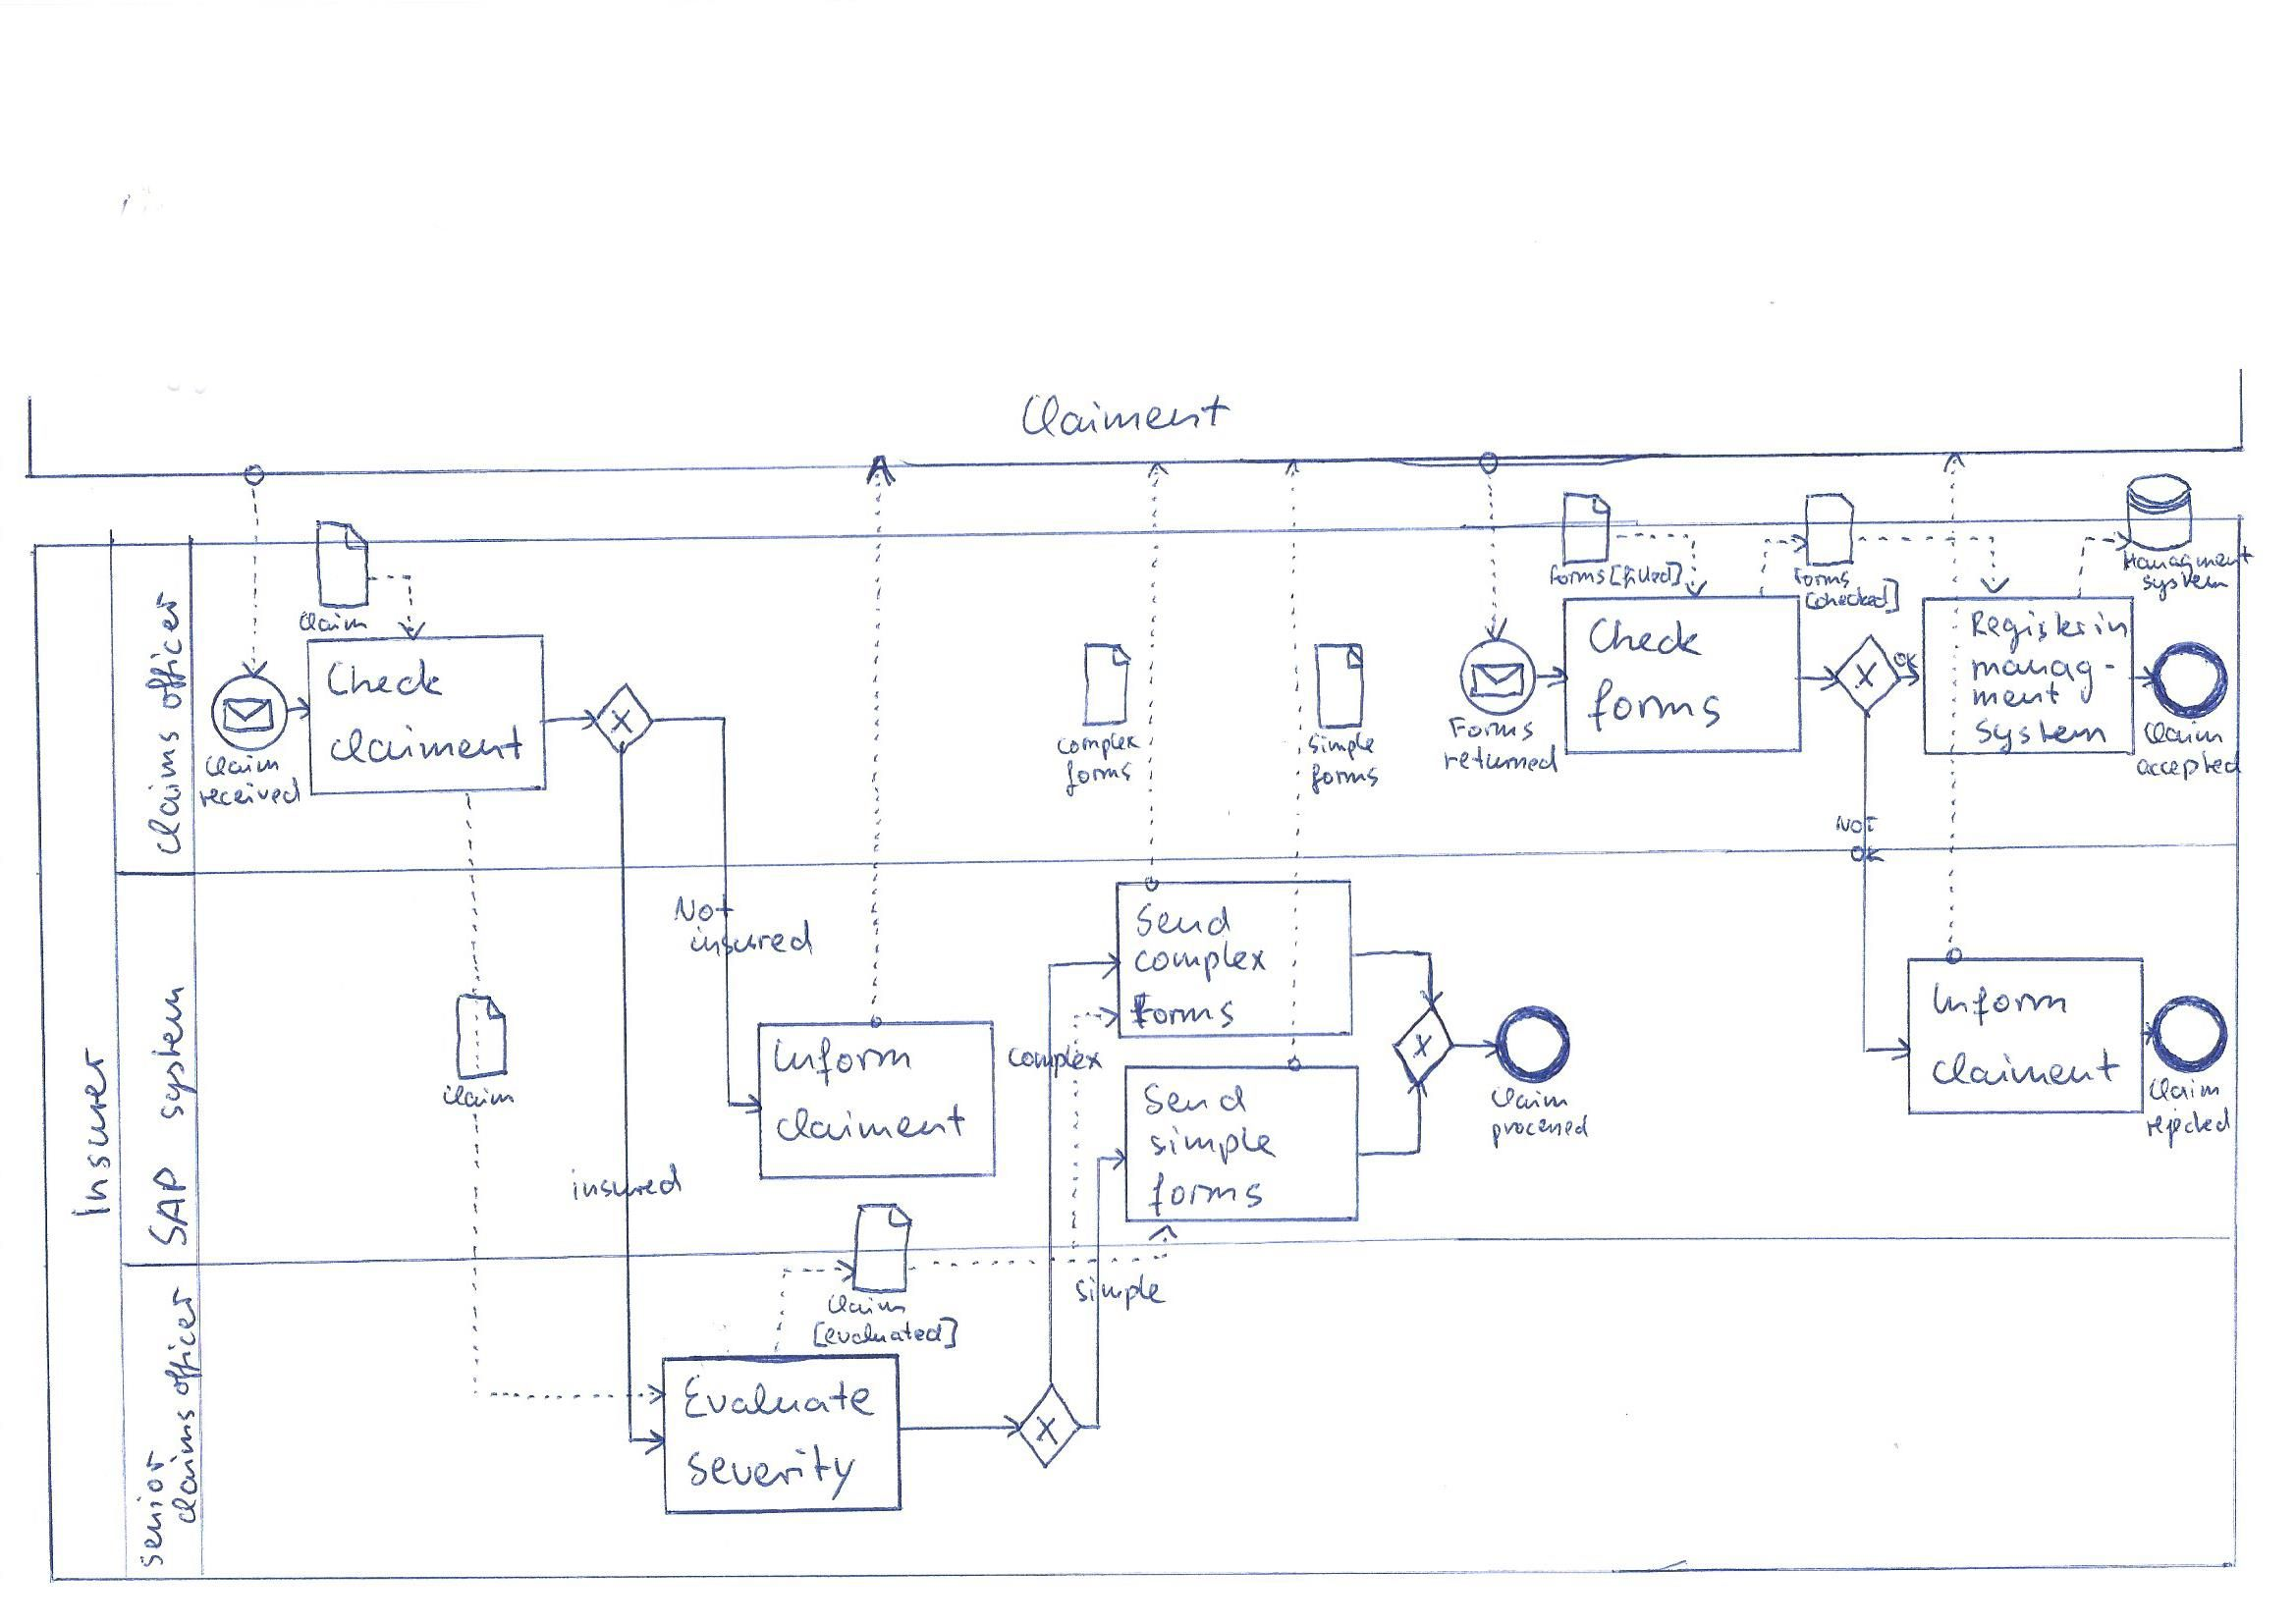Check: (325, 657, 443, 701), (1588, 615, 1702, 659)
Claim: (2140, 715, 2227, 743), (826, 1292, 909, 1320), (2154, 1076, 2224, 1106)
Claiment: (1018, 387, 1234, 443)
Complex: (1055, 733, 1141, 761)
Evaluate: (680, 1380, 881, 1422)
Forms: (1132, 993, 1241, 1032), (1449, 715, 1540, 743), (1791, 566, 1853, 589)
Inform: (1929, 984, 2073, 1025)
Insurer: (72, 1048, 111, 1223)
Management: (2122, 545, 2256, 575)
Not: (668, 881, 740, 926), (1830, 808, 1886, 838)
OK: (1849, 835, 1888, 868), (1886, 647, 1916, 671)
Register in: (1964, 608, 2131, 645)
SAP: (144, 1162, 193, 1251)
Send: (1144, 1083, 1252, 1120)
Simple: (1304, 735, 1377, 763)
[Checked]: (1804, 587, 1899, 613)
[evaluated]: (809, 1311, 958, 1352)
[filled]: (1610, 555, 1686, 594)
accepted: (2138, 754, 2242, 780)
claim: (295, 603, 371, 640), (1491, 1081, 1568, 1111), (206, 754, 283, 780), (438, 1086, 517, 1109)
claiment: (315, 712, 526, 770), (1927, 1051, 2127, 1093), (777, 1102, 969, 1146)
claims: (142, 719, 188, 859), (162, 1401, 204, 1527)
complex: (1132, 946, 1278, 981), (1002, 1048, 1108, 1076)
forms: (1582, 684, 1725, 735), (1143, 1176, 1268, 1216), (1062, 761, 1139, 791), (1304, 765, 1380, 793), (1545, 564, 1603, 592)
inform: (768, 1039, 918, 1081)
insured: (563, 1165, 684, 1207), (689, 924, 816, 960)
manag-: (1965, 654, 2120, 685)
ment: (1974, 680, 2060, 712)
officer: (155, 1278, 202, 1396), (146, 591, 190, 712)
processed: (1487, 1113, 1598, 1148)
receivecd: (192, 782, 304, 810)
rejected: (2147, 1106, 2233, 1144)
returned: (1443, 749, 1563, 777)
send: (1134, 902, 1232, 940)
senior: (137, 1445, 171, 1570)
severity: (680, 1446, 861, 1494)
simple: (1144, 1128, 1278, 1165), (1069, 1276, 1171, 1309)
system: (146, 981, 195, 1120), (1973, 719, 2110, 750), (2138, 573, 2231, 596)
